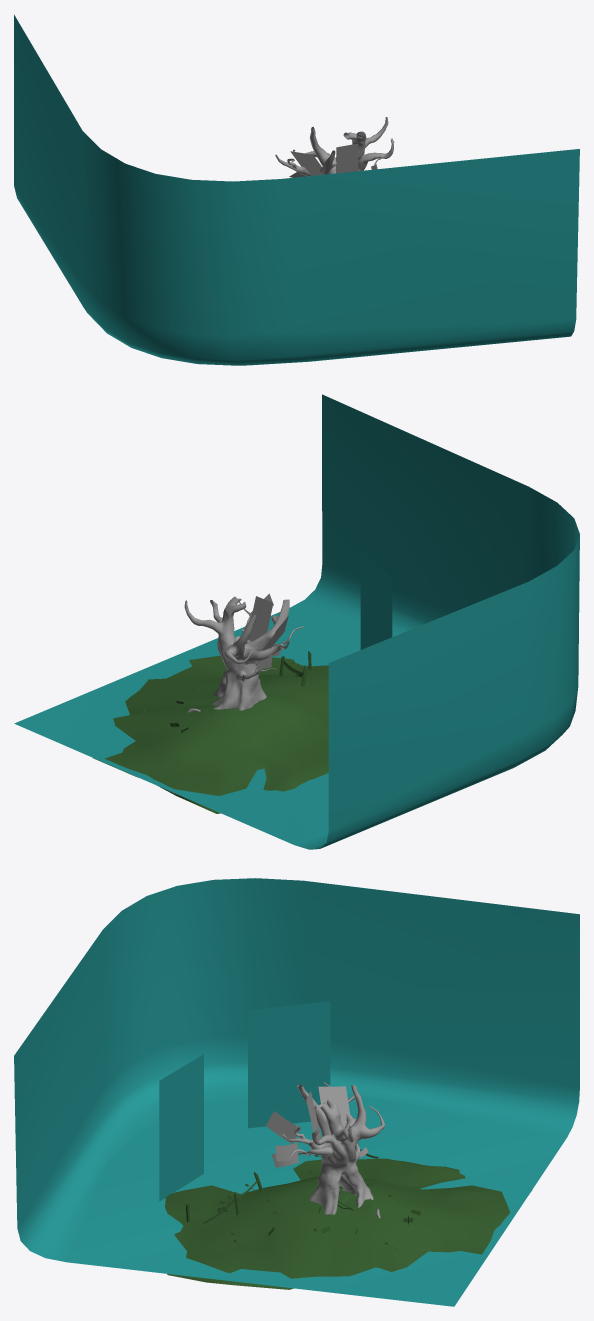
The model's file is wintertree.fbx.
The picture shows the model from 3 angles, top to bottom: view 1: azimuth 30°, elevation 25°; view 2: azimuth 150°, elevation 25°; view 3: azimuth 270°, elevation 25°; orthographic projection. The views are drawn at different scales.
Visible parts, largest first — view 1: Plane002, Cylinder025, Object024; view 2: Plane002, Object008, Cylinder025, Object018, Object024; view 3: Plane002, Object008, Object018, Cylinder025, Object024.
Part boxes in pixels (x1,y1,x2,y2): Plane002: [14, 14, 579, 365]; Cylinder025: [275, 117, 394, 176]; Object024: [289, 143, 377, 177]; Plane002: [14, 394, 579, 849]; Object008: [93, 655, 328, 813]; Cylinder025: [184, 596, 304, 712]; Object018: [360, 550, 392, 649]; Object024: [241, 593, 288, 681]; Plane002: [14, 878, 579, 1306]; Object008: [165, 1158, 531, 1289]; Object018: [159, 1001, 330, 1201]; Cylinder025: [282, 1082, 385, 1218]; Object024: [266, 1086, 368, 1167].
Bounding box in the file's own units: 1536 × 667 × 1629.
